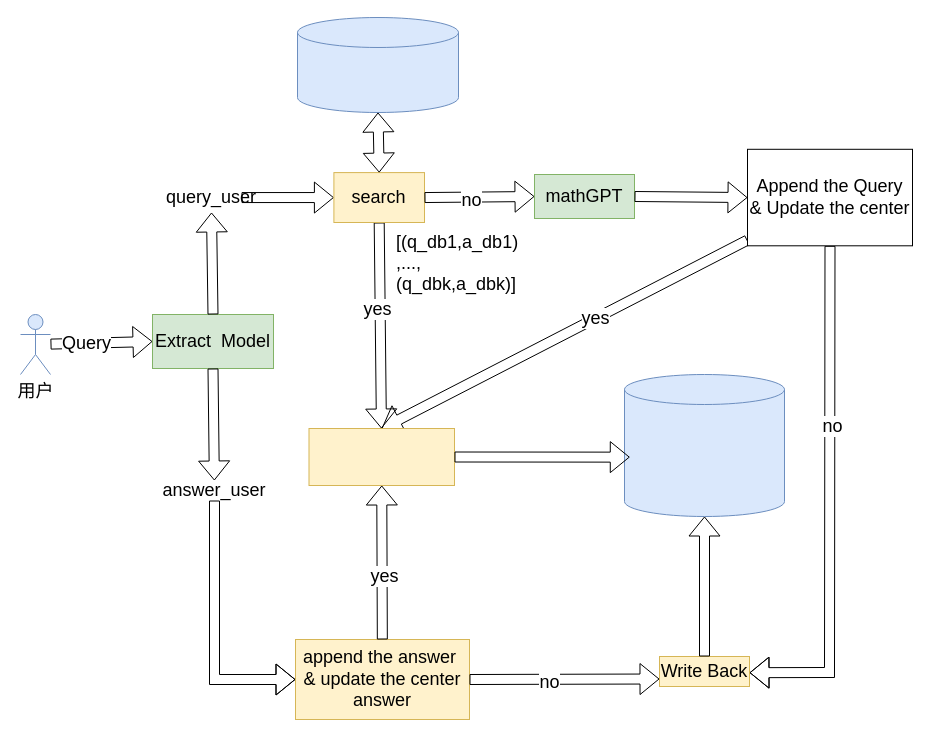
This 930x737 diagram has some shape labels left out. Each missing label, with the centre of its shape:
"DataBase(New)" belongs at (704,445).
"DataBase(Old)" belongs at (377,64).
"update the Query & answer" belongs at (381,457).
